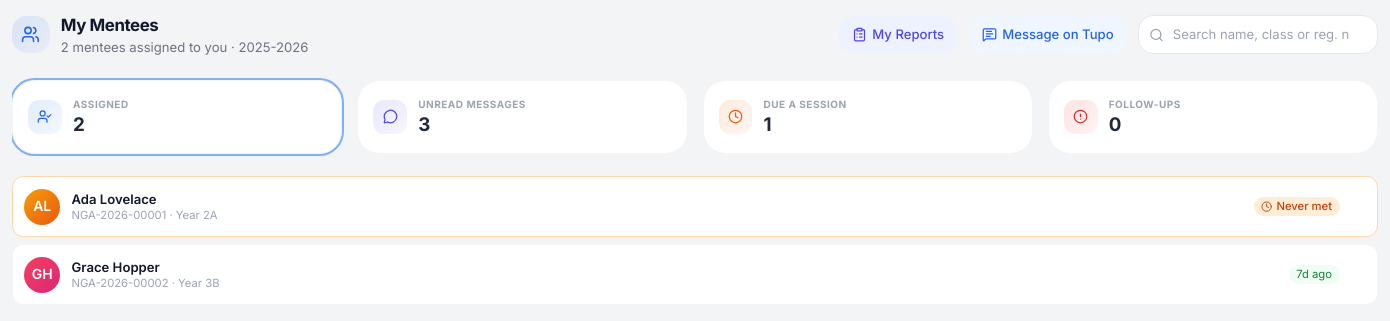
Test: MentoringHub › filters by search text and by the 'due a session' card
expect the text "Ada Lovelace" is shown: met, box [72,191,157,207]
Step 1. Type "3B" into the search field named "Search mentees" → {"x": 1258, "y": 35}, box [1138,15,1378,54]
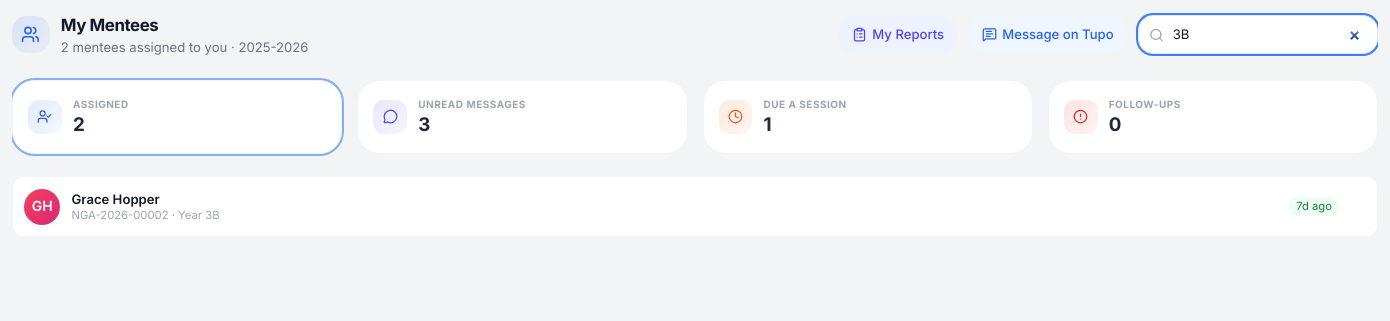
expect the text "Grace Hopper" is shown: met, box [72,191,160,207]
expect the button "Ada Lovelace" is gone: met
Step 2. Clear the search field named "Search mentees" → {"x": 1258, "y": 35}, box [1138,15,1378,54]
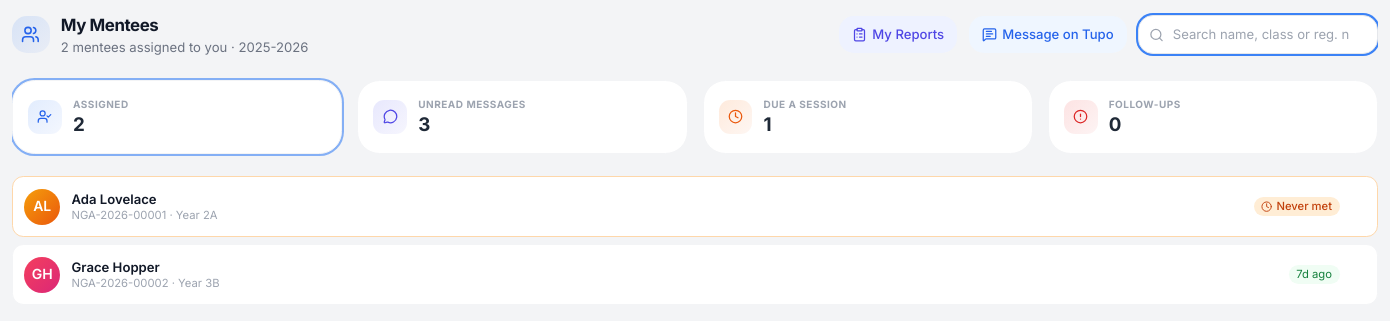
Step 3. Click the button "Due a session 1" → {"x": 735, "y": 117}, box [702,80,1033,154]
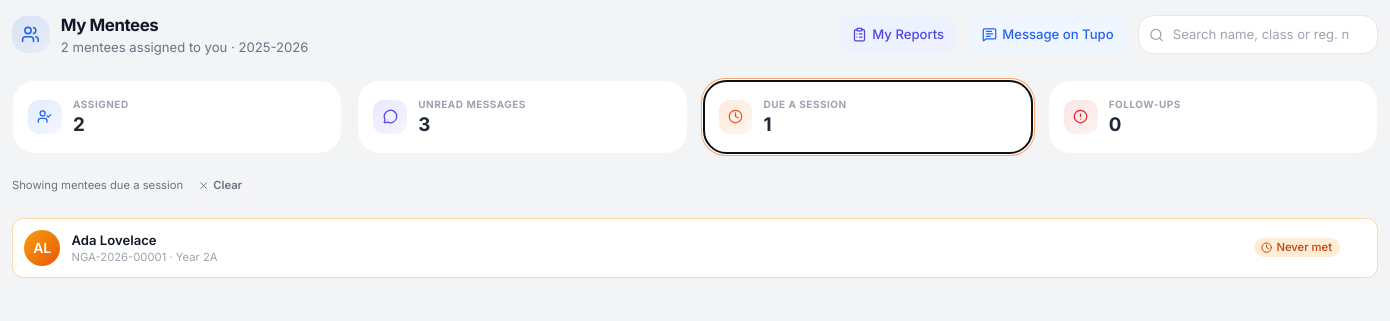
expect the text "Ada Lovelace" is shown: met, box [72,232,157,248]
expect the button "Grace Hopper" is gone: met
Step 4. Click the button "Clear" → {"x": 220, "y": 186}, box [191,176,250,195]
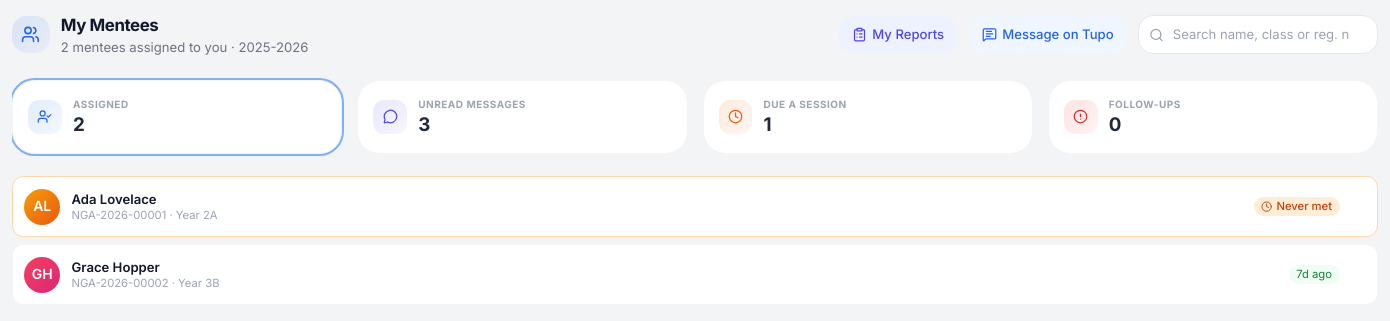
expect the text "Grace Hopper" is shown: met, box [72,259,160,275]
